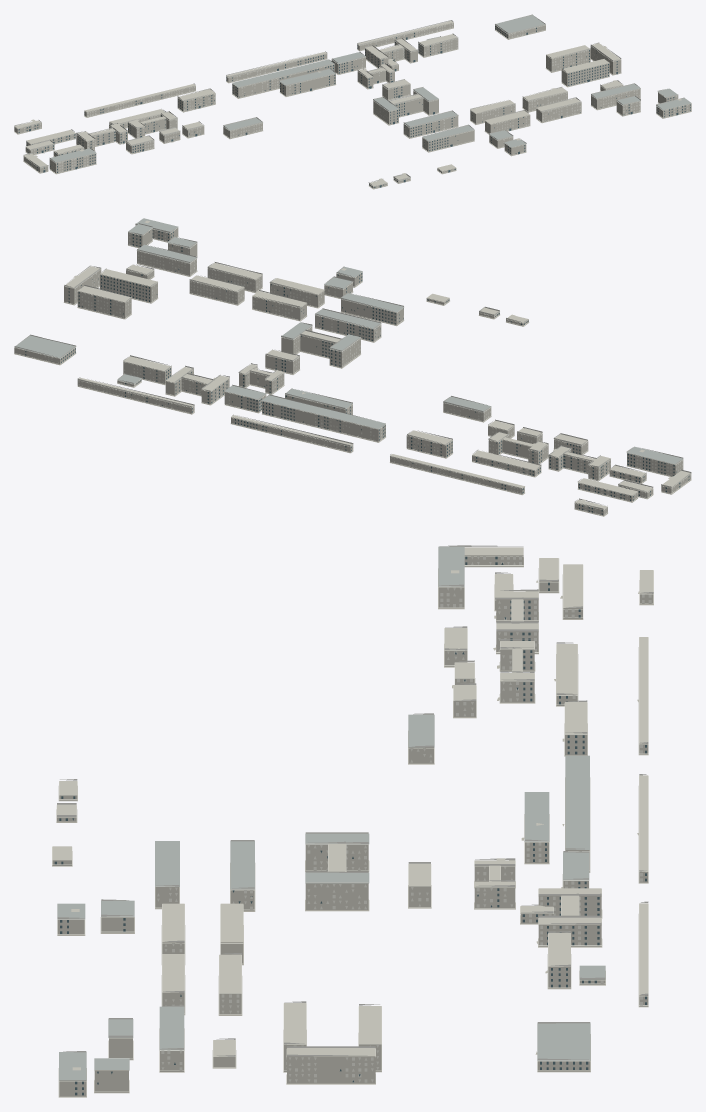
File: shared-02-medium.glb
The picture shows the model from 3 angles, top to bottom: view 1: azimuth 30°, elevation 25°; view 2: azimuth 150°, elevation 25°; view 3: azimuth 270°, elevation 25°; orthographic projection. The views are drawn at different scales.
Parts seen in each view (by area): view 1: Weathered flat roof details.004, Window frames and coping details.004, Pale limestone details.004, Dark blue grey glazing details.004, Walkway stone details.004, 八号楼（研究生院）.001, 图示附属建筑 09.001, 图示附属建筑 08.001, 十一号楼（经济学院）.001, 跃进楼.001, 宿舍二号楼.001, 图示附属建筑 07.001 (+24 smaller); view 2: Weathered flat roof details.004, Window frames and coping details.004, Pale limestone details.004, Walkway stone details.004, Dark blue grey glazing details.004, 跃进楼.001, 图示附属建筑 09.001, 八号楼（研究生院）.001, 十一号楼（经济学院）.001, 图示附属建筑 08.001, 图示附属建筑 07.001, 宿舍四号楼.001 (+19 smaller); view 3: Weathered flat roof details.004, Window frames and coping details.004, Walkway stone details.004, Pale limestone details.004, 十号楼（复旦学院）.001, 生命科学楼 · 东翼.001, Dark blue grey glazing details.004, 微电子学研究所 · 东翼.001, 宿舍六号楼.001, 图示附属建筑 02.001, 生命科学楼 · 西翼.001, 宿舍四号楼.001 (+17 smaller).
Boxes of the visible parts, bbox=[...] form: Weathered flat roof details.004: bbox=[50, 15, 691, 162]; Window frames and coping details.004: bbox=[14, 23, 689, 188]; Pale limestone details.004: bbox=[14, 14, 684, 184]; Dark blue grey glazing details.004: bbox=[18, 25, 690, 187]; Walkway stone details.004: bbox=[14, 27, 691, 189]; 八号楼（研究生院）.001: bbox=[561, 59, 609, 86]; 图示附属建筑 09.001: bbox=[84, 84, 195, 117]; 图示附属建筑 08.001: bbox=[226, 52, 327, 82]; 十一号楼（经济学院）.001: bbox=[546, 45, 590, 72]; 跃进楼.001: bbox=[232, 64, 334, 98]; 宿舍二号楼.001: bbox=[536, 98, 581, 122]; 图示附属建筑 07.001: bbox=[357, 21, 453, 50]; Weathered flat roof details.004: bbox=[14, 218, 682, 464]; Window frames and coping details.004: bbox=[16, 227, 691, 515]; Pale limestone details.004: bbox=[14, 223, 691, 509]; Walkway stone details.004: bbox=[14, 236, 691, 516]; Dark blue grey glazing details.004: bbox=[25, 230, 689, 514]; 跃进楼.001: bbox=[262, 400, 385, 442]; 图示附属建筑 09.001: bbox=[390, 454, 524, 494]; 八号楼（研究生院）.001: bbox=[100, 269, 157, 303]; 十一号楼（经济学院）.001: bbox=[77, 286, 131, 318]; 图示附属建筑 08.001: bbox=[231, 415, 353, 452]; 图示附属建筑 07.001: bbox=[77, 377, 194, 414]; 宿舍四号楼.001: bbox=[252, 291, 306, 320]; Weathered flat roof details.004: bbox=[57, 546, 605, 1080]; Window frames and coping details.004: bbox=[52, 556, 653, 1095]; Walkway stone details.004: bbox=[52, 557, 653, 1097]; Pale limestone details.004: bbox=[57, 545, 653, 1059]; 十号楼（复旦学院）.001: bbox=[287, 1048, 375, 1083]; 生命科学楼 · 东翼.001: bbox=[305, 882, 368, 910]; Dark blue grey glazing details.004: bbox=[54, 556, 646, 1095]; 微电子学研究所 · 东翼.001: bbox=[538, 917, 601, 946]; 宿舍六号楼.001: bbox=[219, 954, 241, 1015]; 图示附属建筑 02.001: bbox=[556, 644, 577, 705]; 生命科学楼 · 西翼.001: bbox=[305, 843, 368, 871]; 宿舍四号楼.001: bbox=[220, 903, 243, 964].
Bounding box in the file's own units: 679 × 19.1 × 321.
